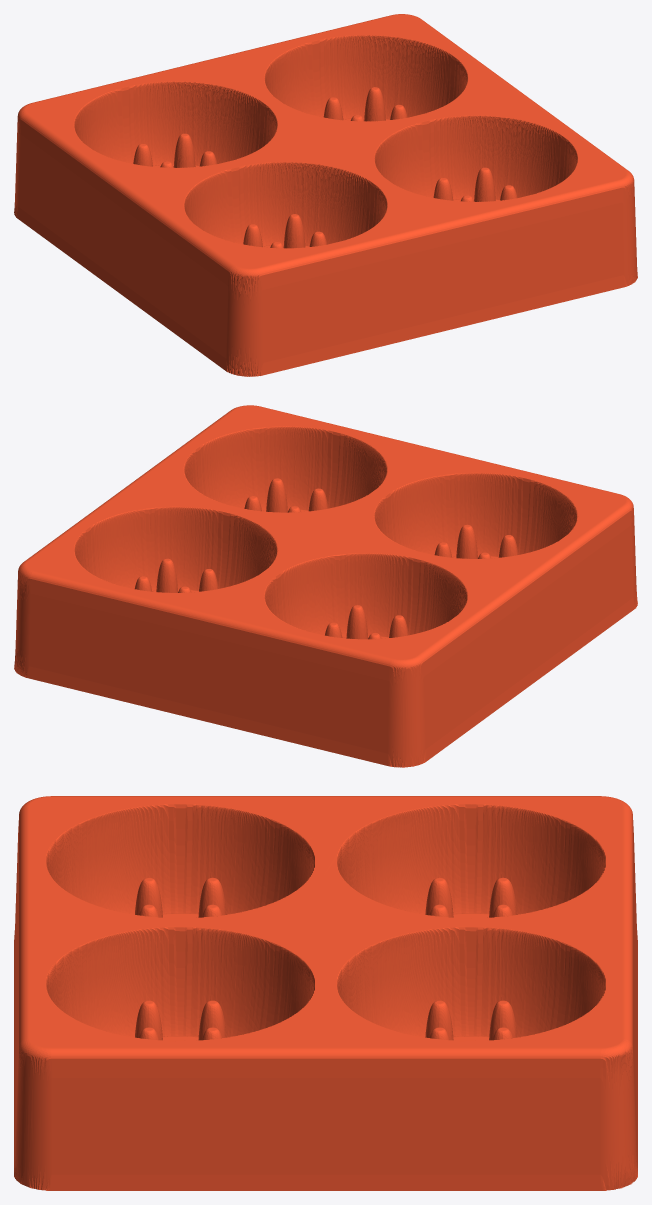
File: mold.glb
3 renders of one model, top to bottom at view 1: azimuth 30°, elevation 25°; view 2: azimuth 150°, elevation 25°; view 3: azimuth 270°, elevation 25°, orthographic. The views are drawn at different scales.
Visible parts, largest first — view 1: geometry_0; view 2: geometry_0; view 3: geometry_0.
Part boxes in pixels (x1,y1,x2,y2): geometry_0: (14,14,637,376); geometry_0: (14,405,637,767); geometry_0: (14,796,637,1190).
Size of the model in its own units: 0.1493 by 0.036 by 0.1493.
